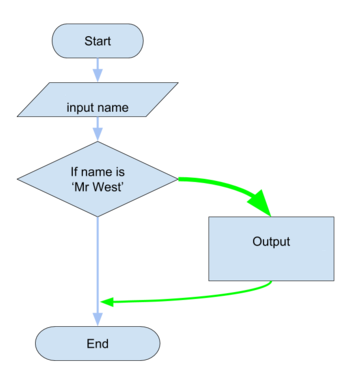arrow: (100, 280, 272, 310), (173, 176, 272, 215), (93, 217, 103, 327), (91, 115, 102, 141), (91, 59, 103, 81)
data: (16, 81, 179, 119)
decision: (17, 141, 178, 217)
process: (207, 214, 336, 284)
terminator: (33, 325, 161, 362), (50, 22, 145, 58)
text: (69, 165, 126, 193), (65, 102, 130, 116), (250, 235, 291, 250), (83, 35, 112, 49), (84, 337, 111, 348)
